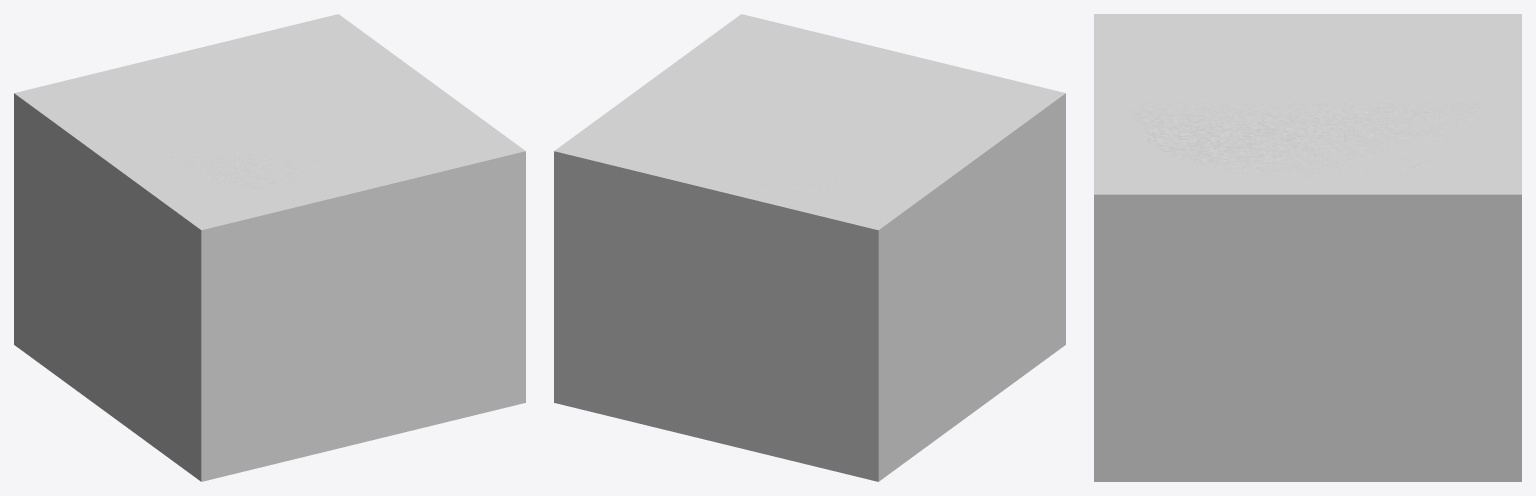
The model's file is UpLu_Round_Grooved_Display.gltf.
The picture shows the model from 3 angles, left to right: view 1: azimuth 30°, elevation 25°; view 2: azimuth 150°, elevation 25°; view 3: azimuth 270°, elevation 25°; orthographic projection. The views are drawn at different scales.
Visible parts, largest first — view 1: UpLu_Round_Grooved_bcol, UpLu_Round_Grooved.001; view 2: UpLu_Round_Grooved_bcol, UpLu_Round_Grooved.001; view 3: UpLu_Round_Grooved_bcol, UpLu_Round_Grooved.001.
Boxes of the visible parts, <box> form: UpLu_Round_Grooved_bcol: <box>14,14,525,481</box>; UpLu_Round_Grooved.001: <box>123,55,407,189</box>; UpLu_Round_Grooved_bcol: <box>554,14,1065,481</box>; UpLu_Round_Grooved.001: <box>672,154,939,189</box>; UpLu_Round_Grooved_bcol: <box>1094,14,1521,481</box>; UpLu_Round_Grooved.001: <box>1125,76,1490,181</box>.
Bounding box in the file's own units: 0.8603 × 0.6376 × 0.8604.
Materials: 1 (1 with a texture image).
